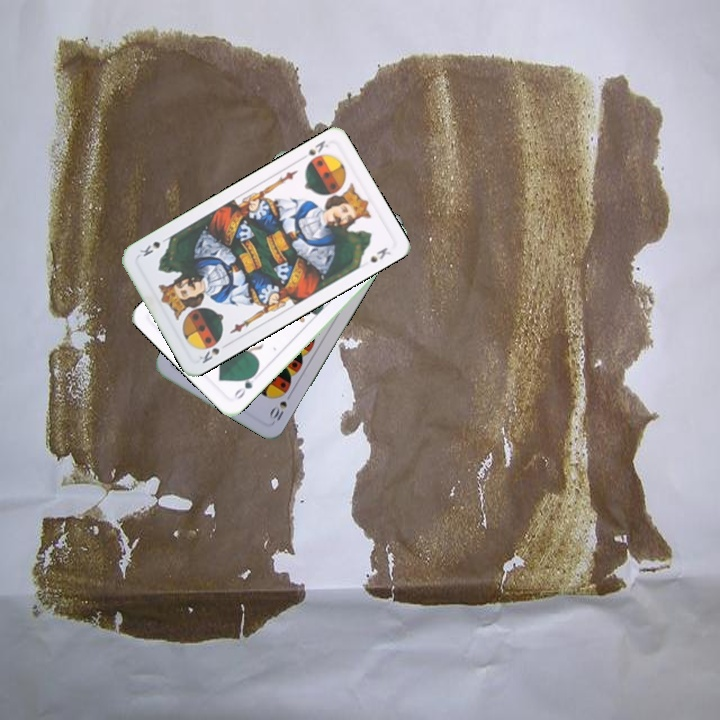GO: (229, 368, 259, 402)
S10: (266, 388, 295, 425)
SK: (296, 136, 331, 168), (195, 339, 232, 366)
